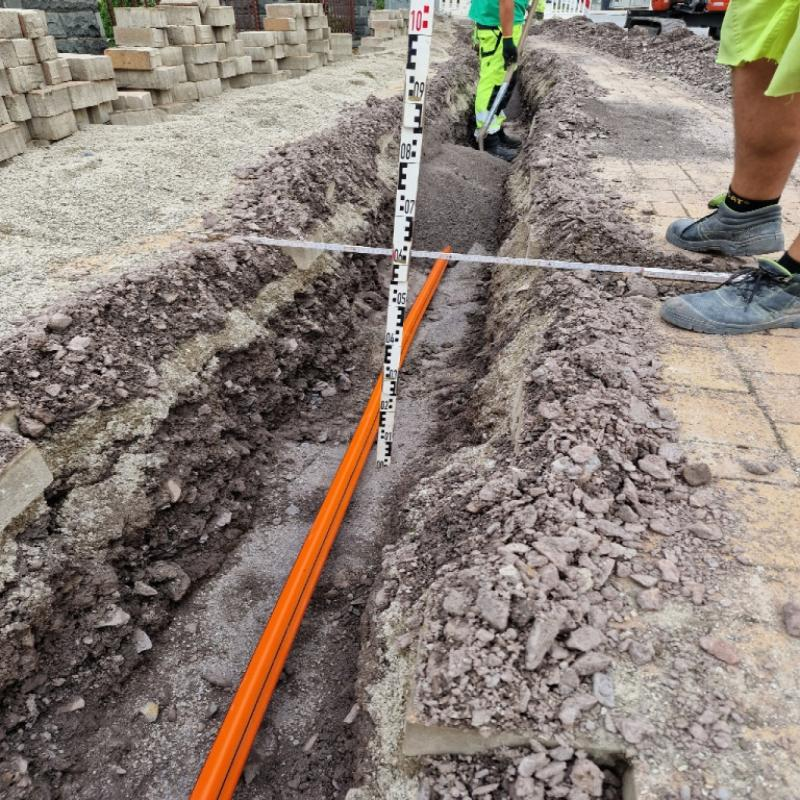Orang-Speednetrohrchen: (191, 376, 384, 799), (399, 247, 452, 357)
